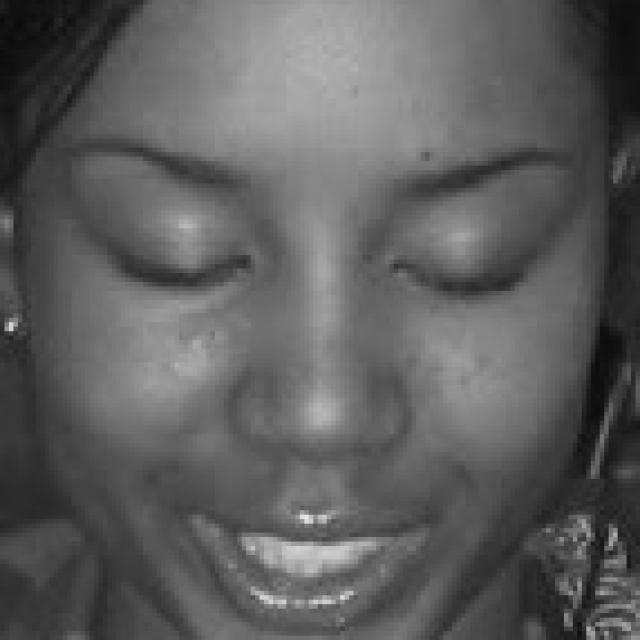real: (20, 8, 561, 608), (86, 183, 564, 312)
